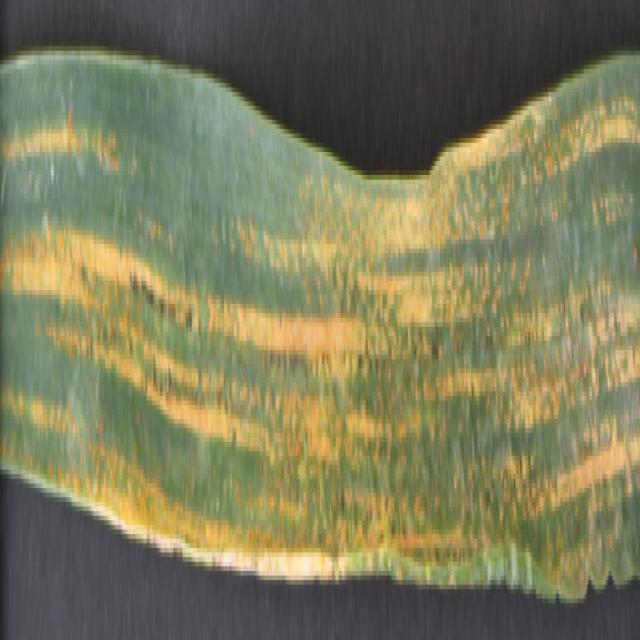leaf rust: (0, 101, 640, 593)
